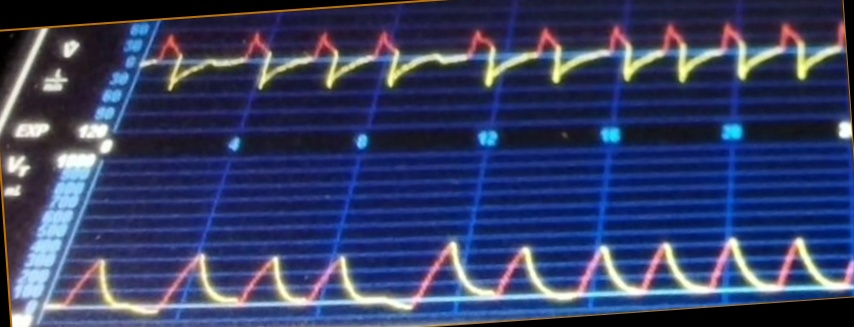Ineffective_effort Flow: (151, 17, 843, 124)
Ineffective_effort Volume: (61, 232, 852, 317)
